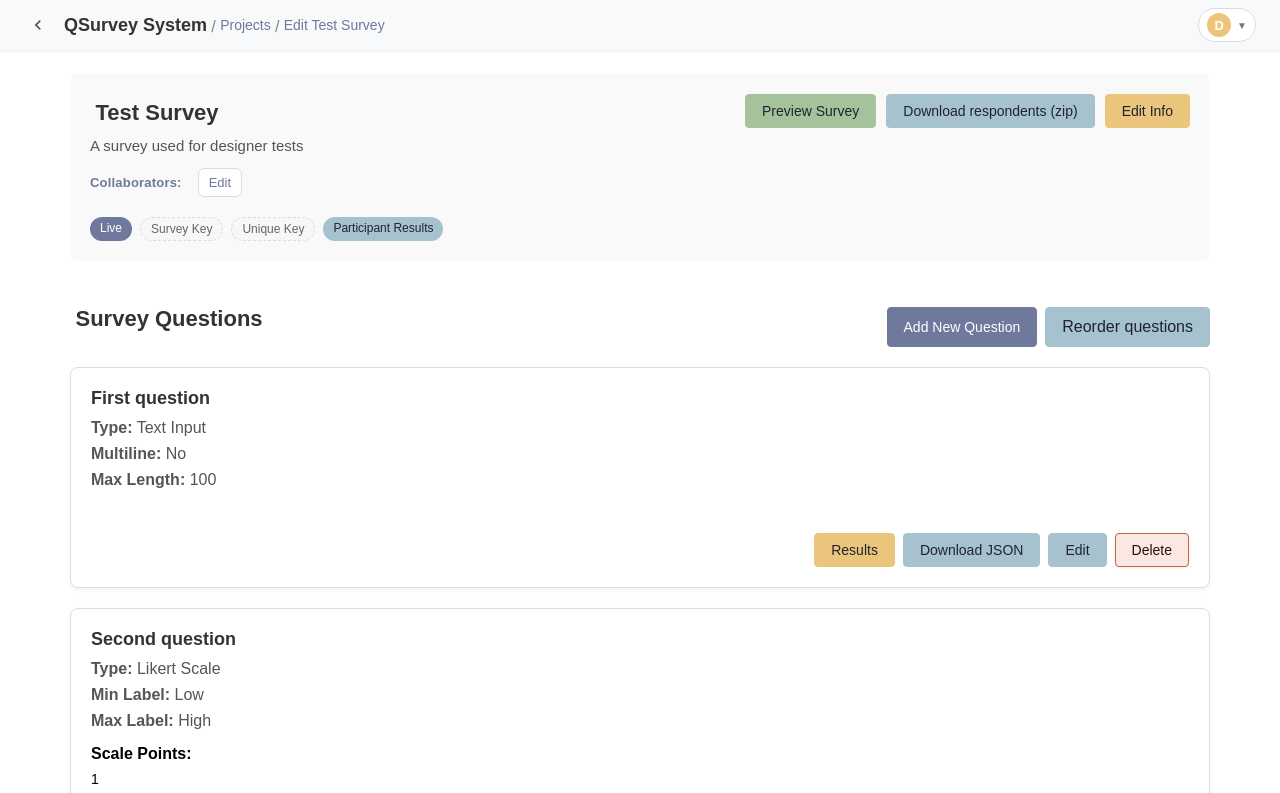
SurveyEdit designer workflows › disables move buttons at list bounds
Expected: the heading "First question" is shown, x1=91 y1=388 x2=210 y2=408
Click the button "Reorder questions": click(1128, 327) x1=1045 y1=307 x2=1210 y2=347
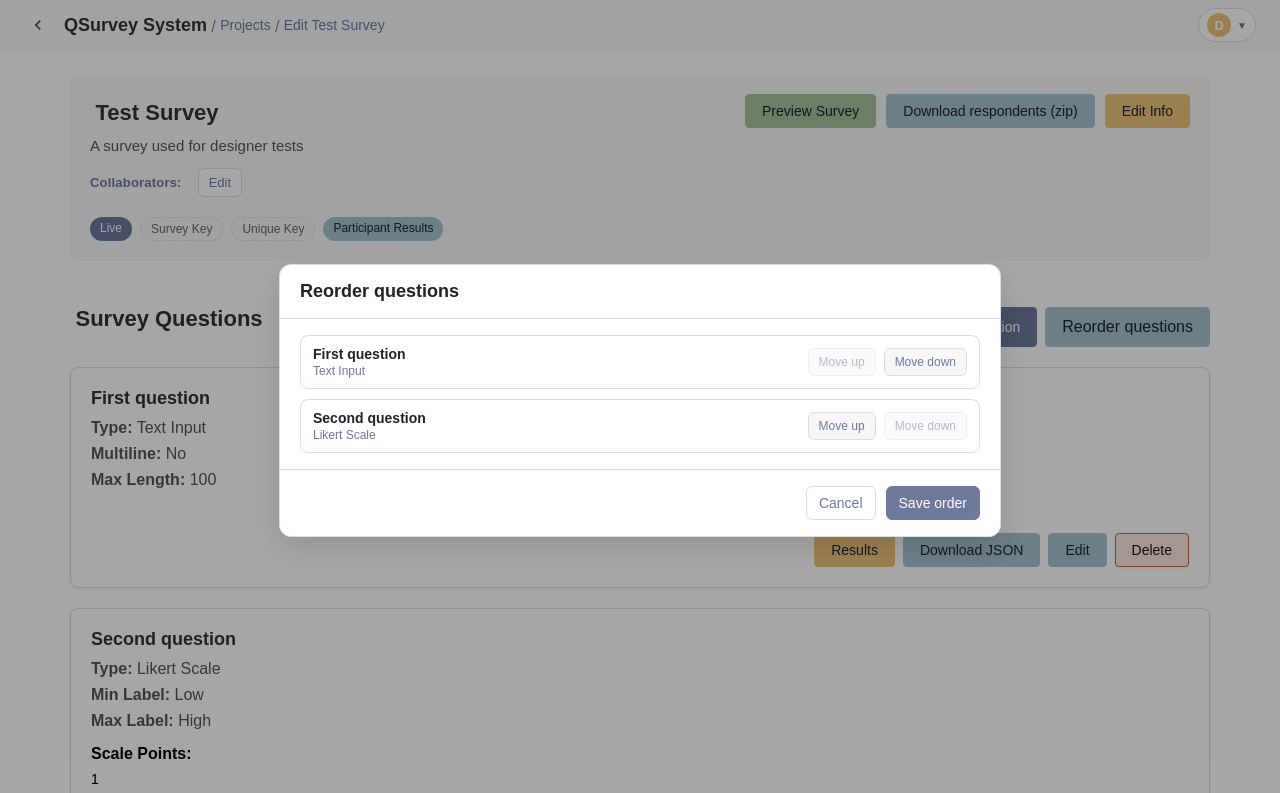
Expected: the button with aria-label "move up first question" is disabled, x1=808 y1=348 x2=876 y2=376
Expected: the button with aria-label "move down second question" is disabled, x1=884 y1=412 x2=967 y2=440
